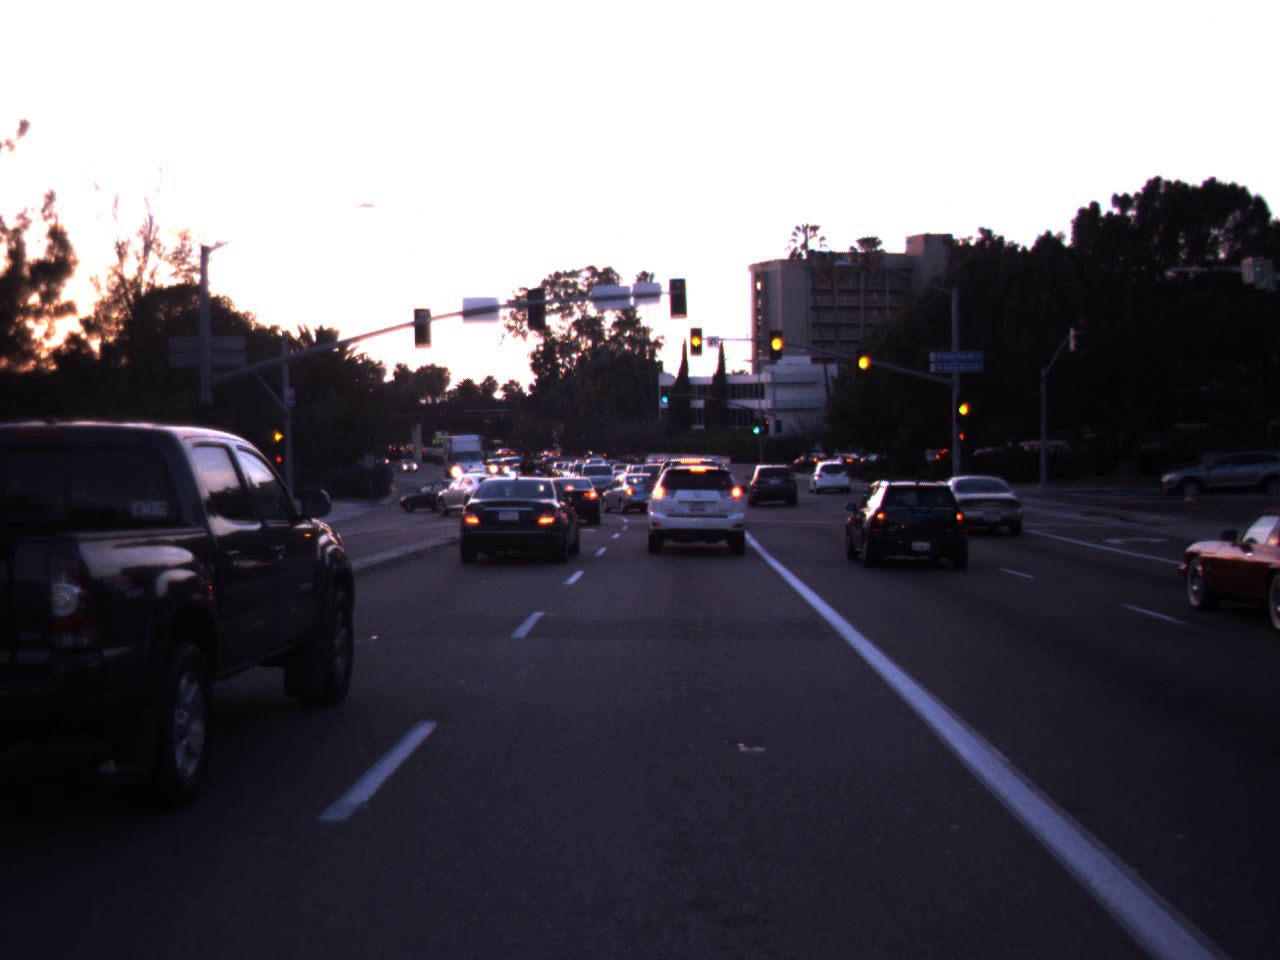go: (660, 378, 672, 403), (749, 413, 764, 433)
warning: (764, 314, 791, 368), (680, 318, 710, 358), (851, 338, 875, 383), (957, 387, 972, 427), (272, 422, 284, 449)
